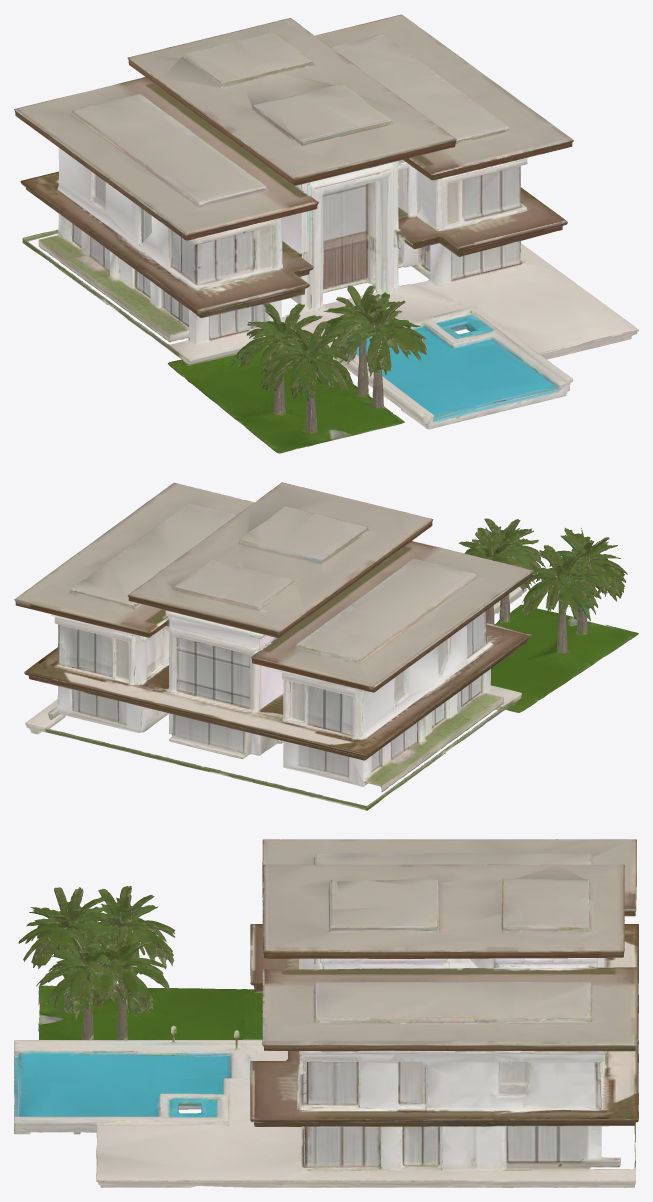
Rendered from villa-dubai.glb.
The picture shows the model from 3 angles, top to bottom: view 1: azimuth 30°, elevation 25°; view 2: azimuth 150°, elevation 25°; view 3: azimuth 270°, elevation 25°; orthographic projection. The views are drawn at different scales.
Parts seen in each view (by area): view 1: Mesh_0; view 2: Mesh_0; view 3: Mesh_0.
Boxes of the visible parts, x1,y1,x2,y2 form: Mesh_0: (14,14,638,453); Mesh_0: (14,482,638,810); Mesh_0: (14,839,638,1187).
Size of the model in its own units: 1.53 by 0.6505 by 1.91.
1 material, 1 textured.
